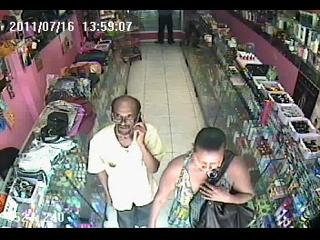Normal: (87, 96, 165, 228), (146, 127, 228, 228), (154, 10, 175, 45), (75, 50, 109, 66)
